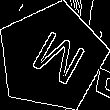M_SW: (19, 24, 84, 90)
